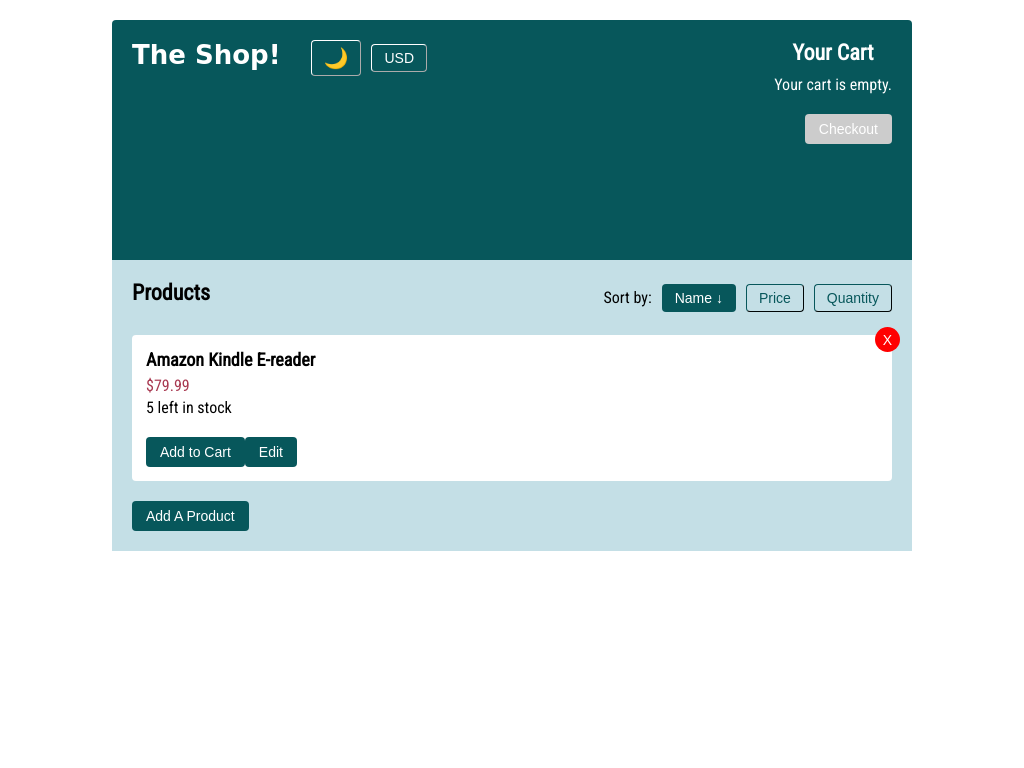
Test: clicking cancel hides edit form
Click the button "Edit" at coordinates (271, 452), box [245,437,297,467]
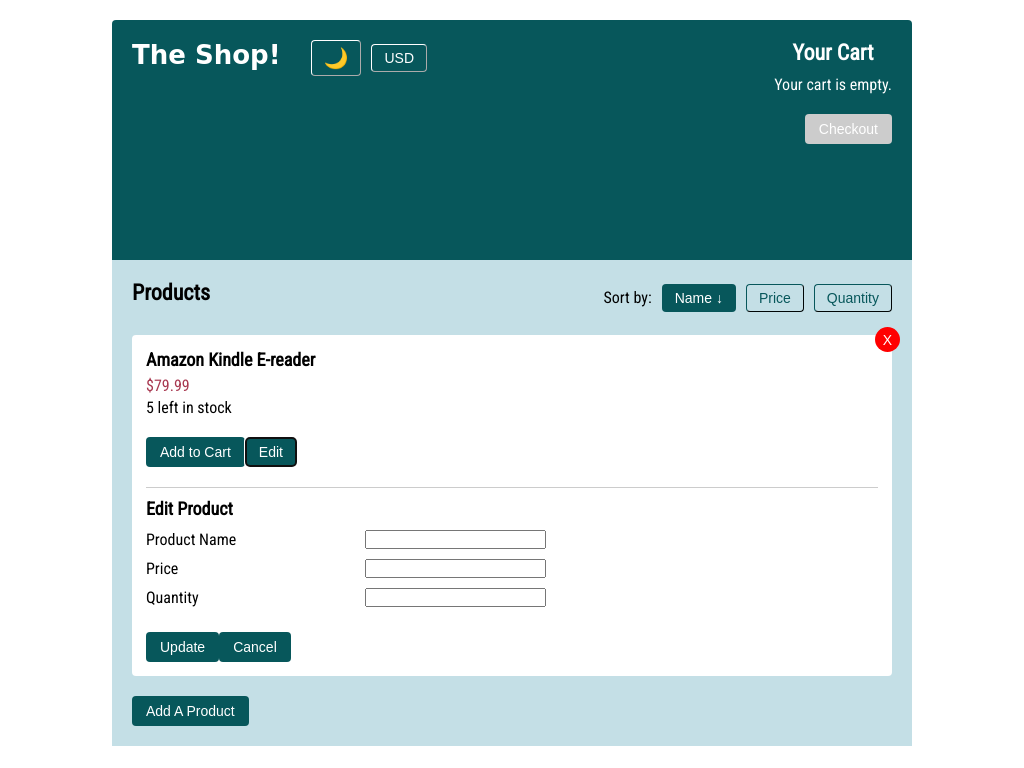
Result: the button "Cancel" is shown
Click the button "Cancel" at coordinates (255, 647), box [219,632,291,662]
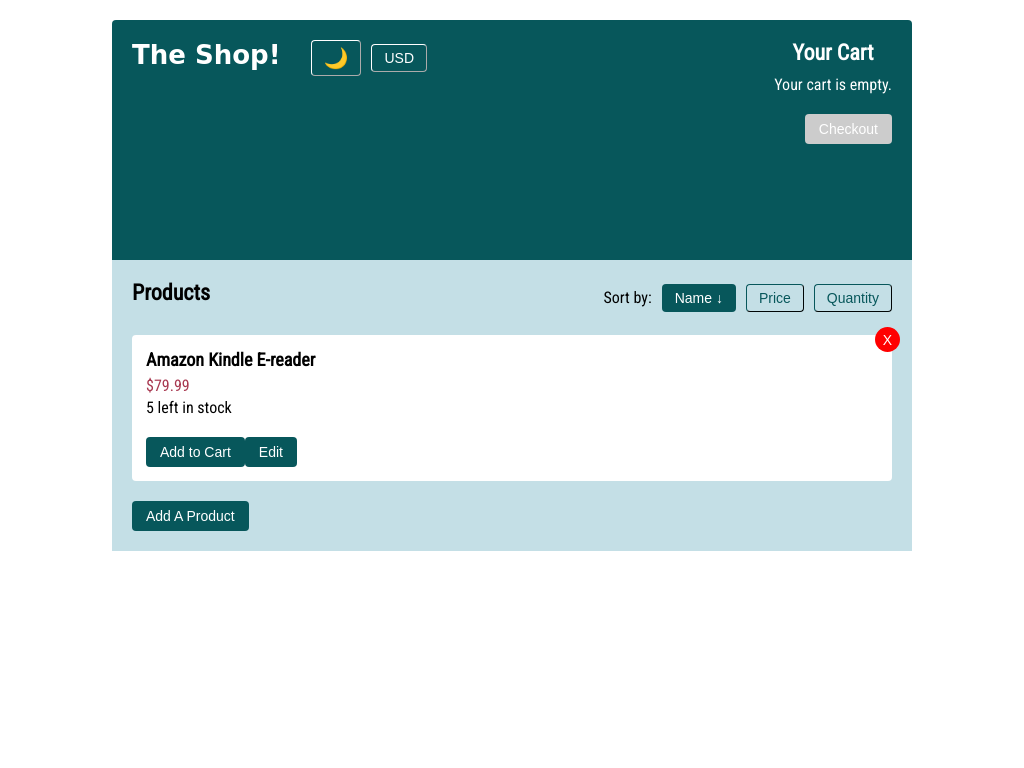
Expected: the button "Edit" is shown, [245,437,297,467]
Result: the button "Cancel" is gone
